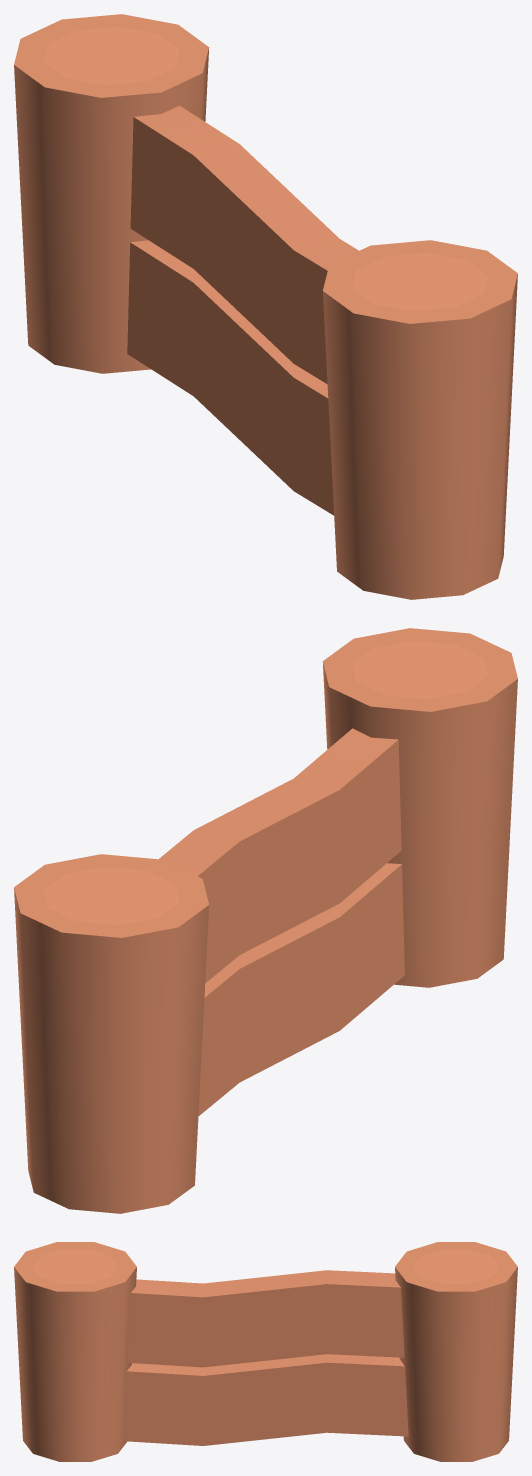
Rendered from Fence_B.fbx.
3 renders of one model, top to bottom at view 1: azimuth 30°, elevation 25°; view 2: azimuth 150°, elevation 25°; view 3: azimuth 270°, elevation 25°, orthographic. The views are drawn at different scales.
Parts seen in each view (by area): view 1: Fence_B; view 2: Fence_B; view 3: Fence_B.
Part boxes in pixels (x1,y1,x2,y2): Fence_B: [14, 14, 517, 599]; Fence_B: [14, 628, 517, 1213]; Fence_B: [14, 1242, 517, 1461].
Bounding box in the file's own units: 46.47 × 76.18 × 200.
